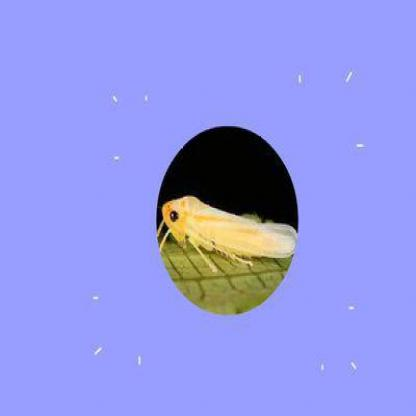Green-Leafhopper: (157, 195, 298, 275)
